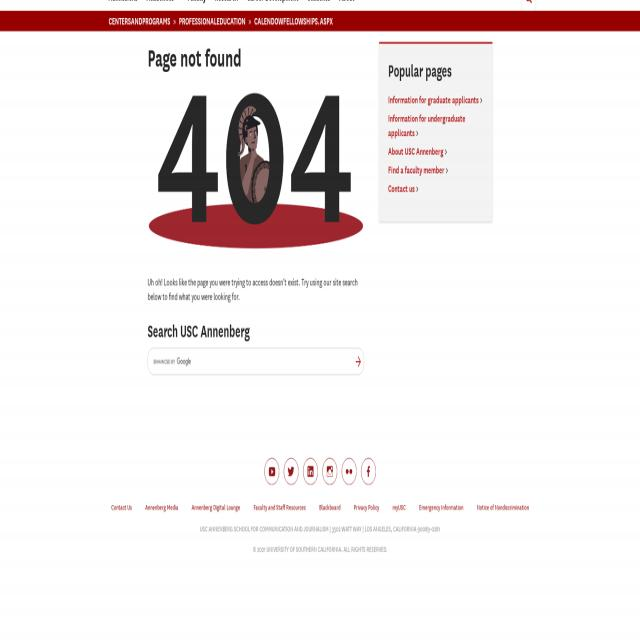button: (148, 83, 364, 261), (264, 458, 280, 484), (302, 458, 318, 484), (322, 458, 338, 484), (360, 458, 376, 484), (284, 458, 298, 484), (342, 458, 356, 484), (353, 352, 362, 371)
field: (148, 349, 364, 374)
